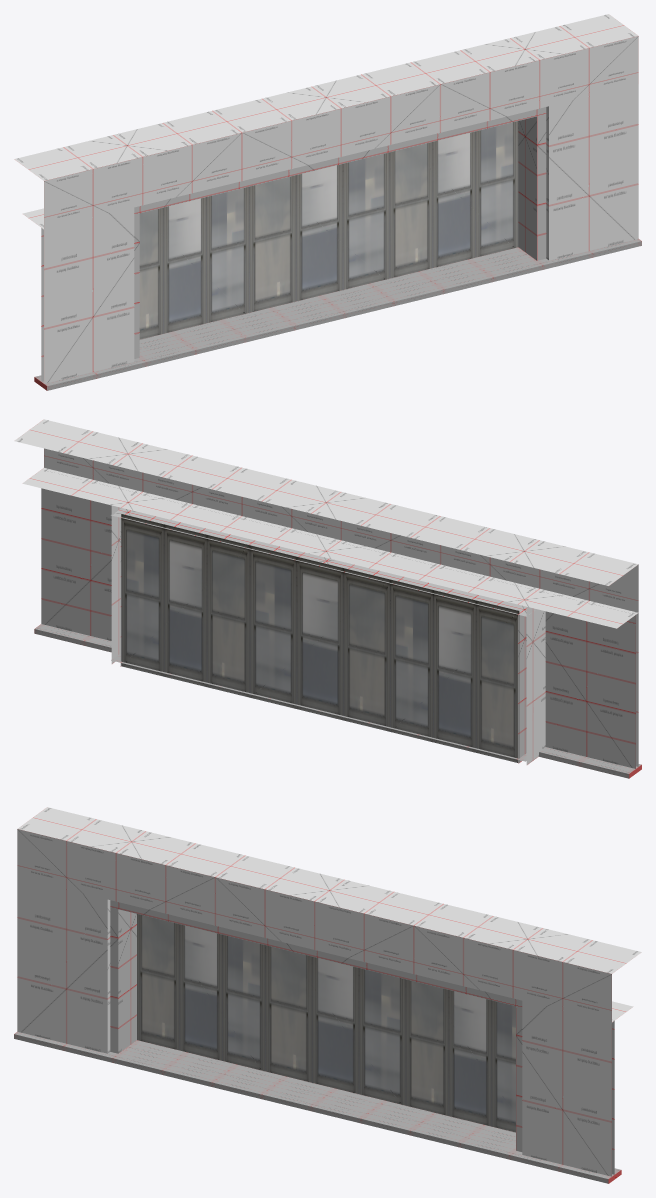
3 views of the same model, one above another, from view 1: azimuth 30°, elevation 25°; view 2: azimuth 150°, elevation 25°; view 3: azimuth 330°, elevation 25° (orthographic).
Parts seen in each view (by area): view 1: B_02_3x_d, B_02_border_b; view 2: B_02_3x_d, B_02_border_b; view 3: B_02_3x_d, B_02_border_b.
Boxes of the visible parts, x1,y1,x2,y2 form: B_02_3x_d: (14, 14, 638, 383); B_02_border_b: (34, 238, 641, 390); B_02_3x_d: (14, 419, 638, 768); B_02_border_b: (34, 624, 641, 778); B_02_3x_d: (17, 807, 641, 1176); B_02_border_b: (14, 1031, 621, 1183).
Bounding box in the file's own units: 60 × 5.8 × 20.
